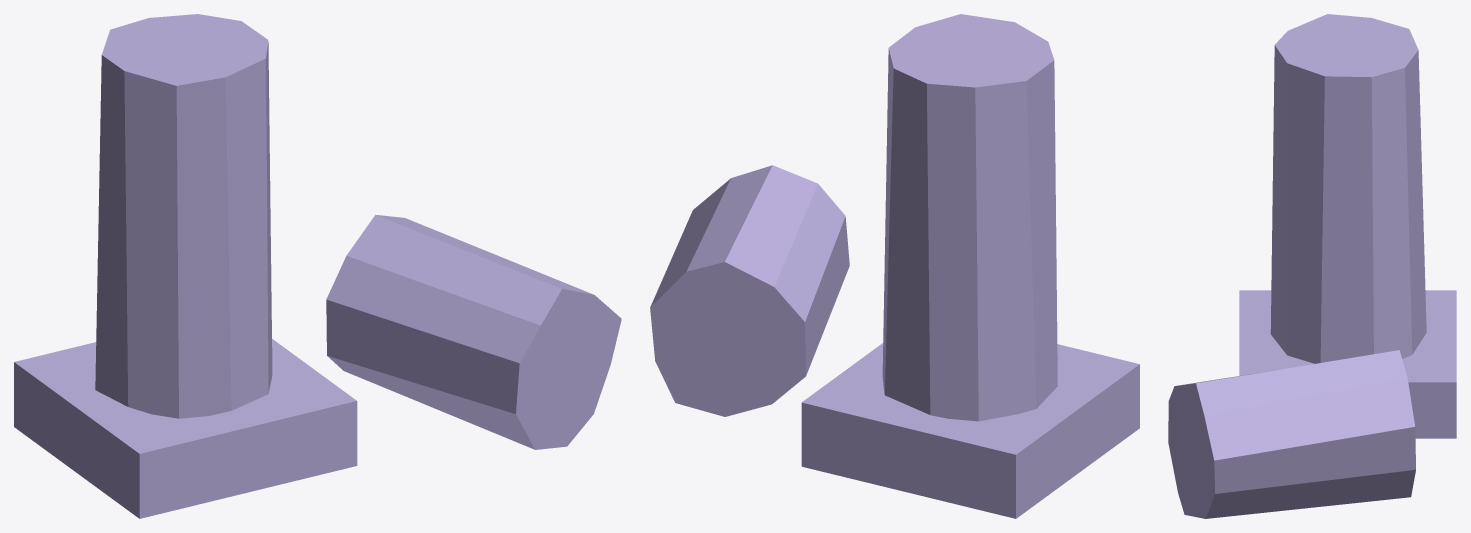
Rendered from Plateau_Column1.fbx.
3 views of the same model, side by side, from view 1: azimuth 30°, elevation 25°; view 2: azimuth 150°, elevation 25°; view 3: azimuth 270°, elevation 25° (orthographic). The views are drawn at different scales.
Parts seen in each view (by area): view 1: Plateau_Column1; view 2: Plateau_Column1; view 3: Plateau_Column1.
Part boxes in pixels (x1=…): Plateau_Column1: x1=14, y1=14, x2=621, y2=518; Plateau_Column1: x1=650, y1=14, x2=1139, y2=518; Plateau_Column1: x1=1168, y1=14, x2=1456, y2=518.
Bounding box in the file's own units: 3.01 × 2.5 × 1.86.
